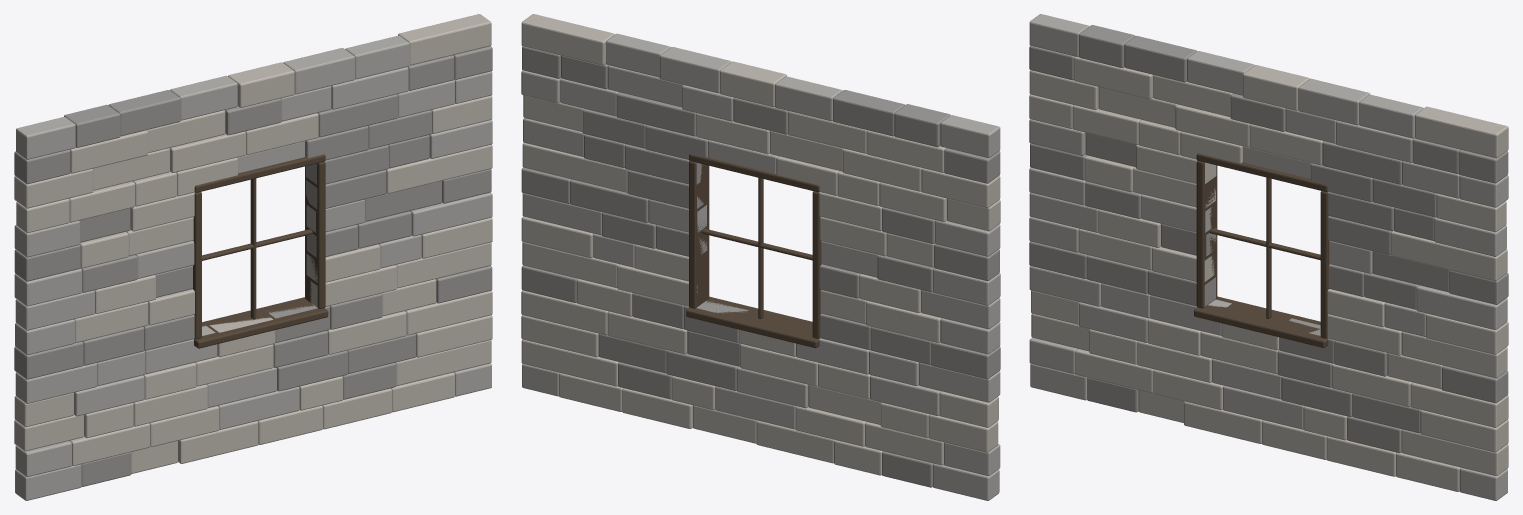
Rendered from SM_Stone_Wall_Window.fbx.
3 views of the same model, side by side, from view 1: azimuth 30°, elevation 25°; view 2: azimuth 150°, elevation 25°; view 3: azimuth 330°, elevation 25° (orthographic).
Visible parts, largest first — view 1: SM_Stone_Wall_Window; view 2: SM_Stone_Wall_Window; view 3: SM_Stone_Wall_Window.
Part boxes in pixels (bbox=[...]): SM_Stone_Wall_Window: bbox=[14, 14, 492, 500]; SM_Stone_Wall_Window: bbox=[521, 14, 1000, 500]; SM_Stone_Wall_Window: bbox=[1029, 14, 1508, 500].
Bounding box in the file's own units: 4 × 3 × 0.3.
